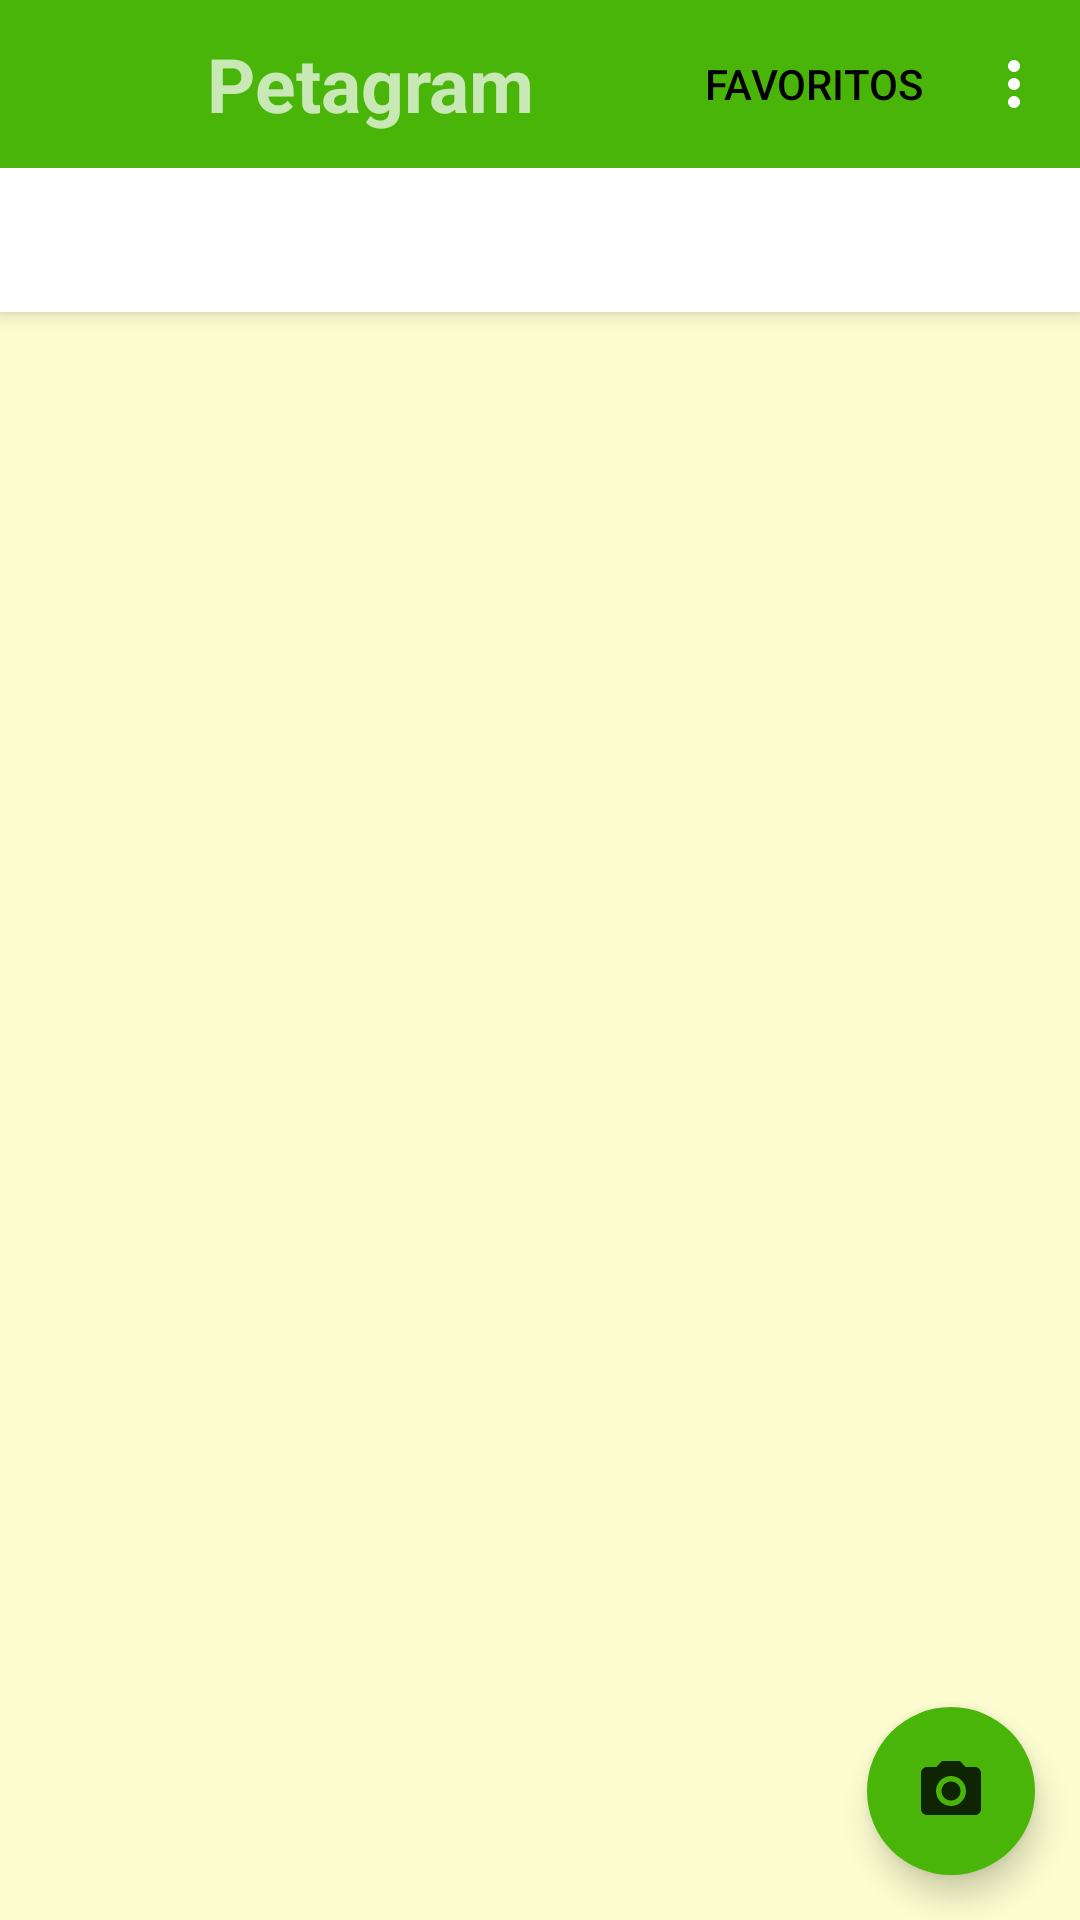

Where icons sit on this 1080px x 1920px app screen, as (x1, y1, x2, y2):
camera enhance: (867, 1707, 1035, 1875)
